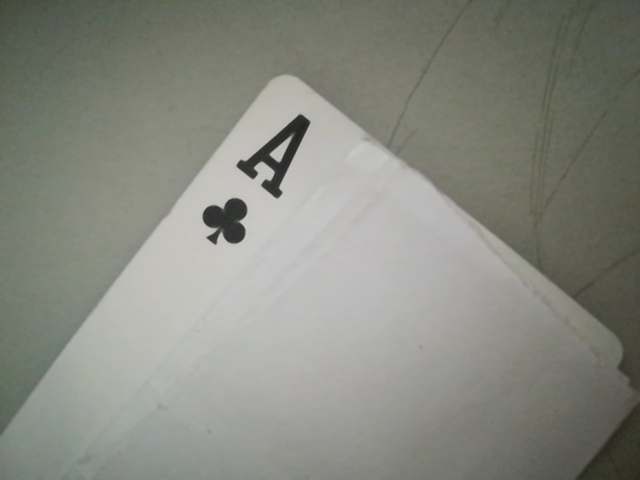mh a: (185, 104, 325, 254)
